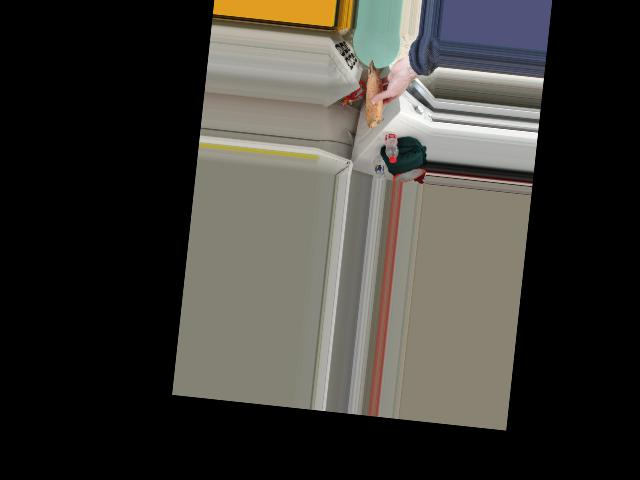sweet_potato: (361, 61, 390, 130)
